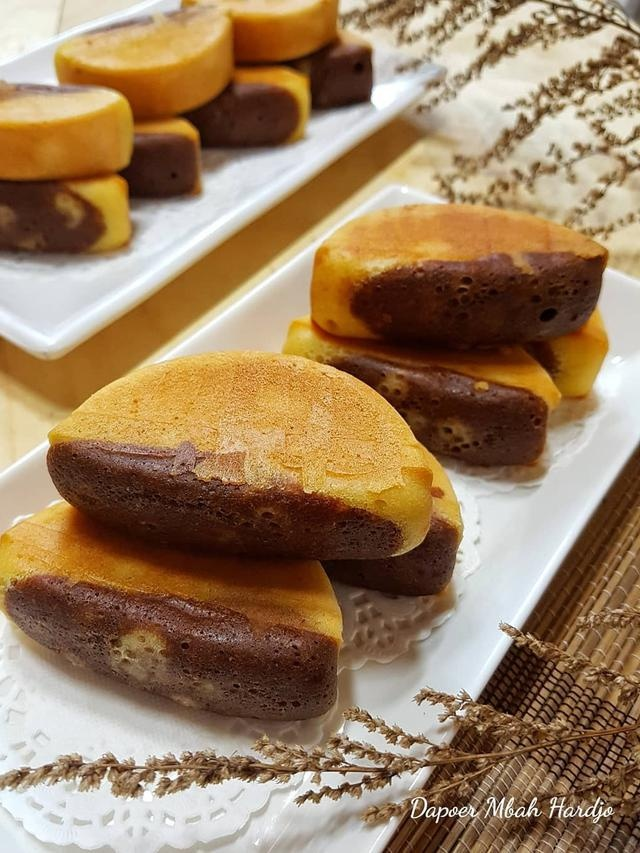pukis: (13, 258, 454, 575)
